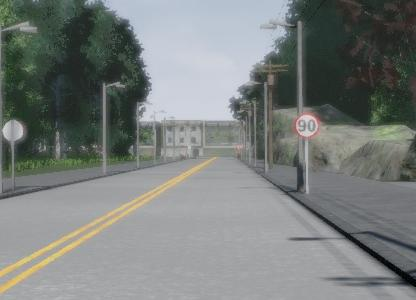Speed_90: (363, 74, 416, 138)
